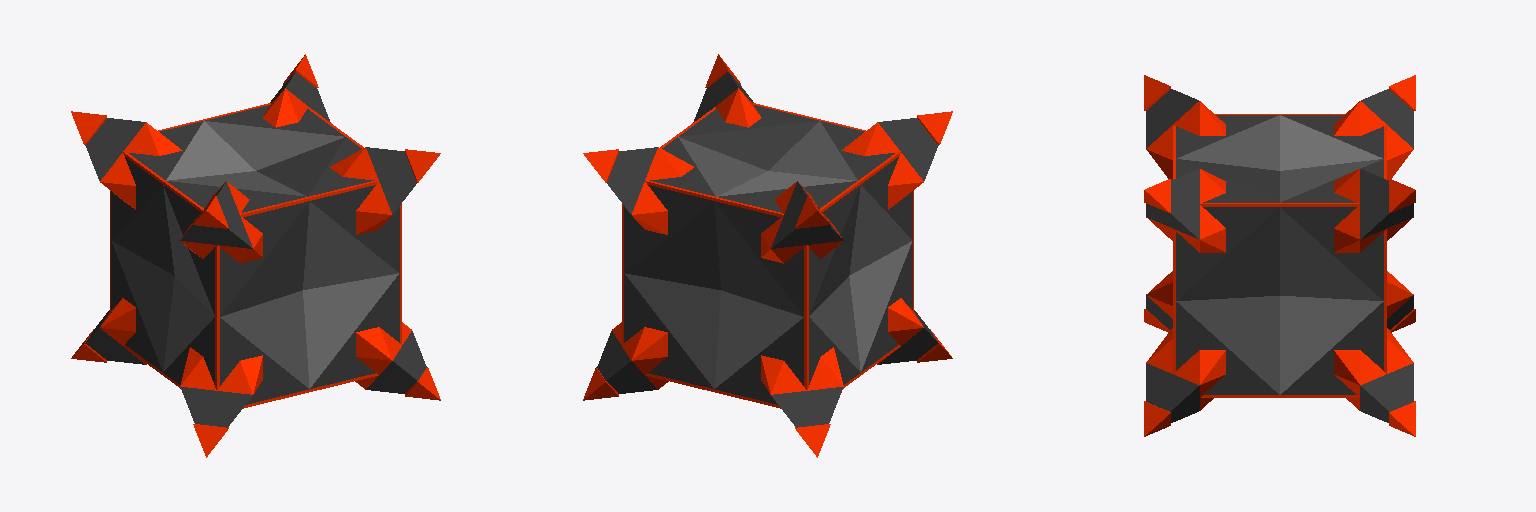
Rendered from PulseGrenade.obj.
3 views of the same model, side by side, from view 1: azimuth 30°, elevation 25°; view 2: azimuth 150°, elevation 25°; view 3: azimuth 270°, elevation 25° (orthographic).
Visible parts, largest first — view 1: the_node.121_tri_2556_geometry; view 2: the_node.121_tri_2556_geometry; view 3: the_node.121_tri_2556_geometry.
Boxes of the visible parts, x1=… form: the_node.121_tri_2556_geometry: x1=71, y1=54, x2=440, y2=457; the_node.121_tri_2556_geometry: x1=583, y1=54, x2=952, y2=457; the_node.121_tri_2556_geometry: x1=1144, y1=75, x2=1415, y2=436.
Bounding box in the file's own units: 0.6532 × 0.6573 × 0.6532.